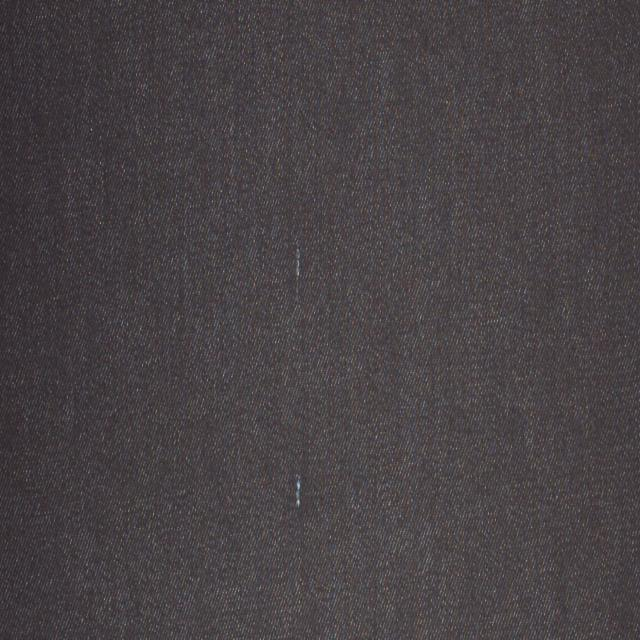Knot: (295, 475, 302, 510)
